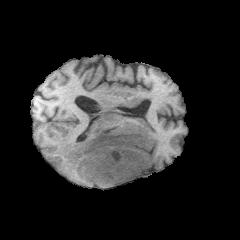glioma: (55, 125, 156, 186)
